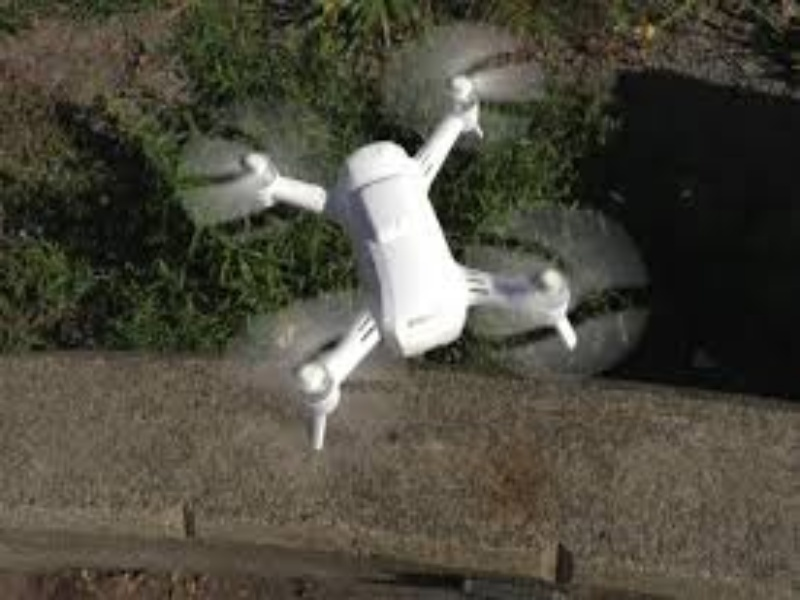drone: (208, 69, 595, 455)
